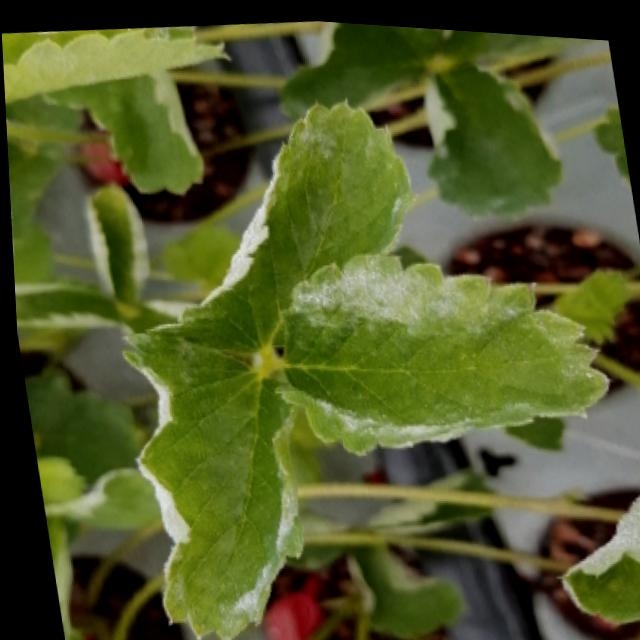Powdery Mildew Leaf: (133, 93, 414, 355), (271, 242, 608, 453), (114, 330, 297, 640), (422, 53, 559, 212), (1, 22, 233, 105), (552, 480, 640, 616), (82, 180, 145, 301), (11, 278, 122, 325)
